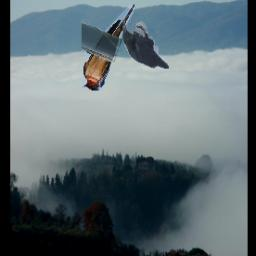Crow: (122, 21, 169, 69)
Swallow: (83, 5, 135, 92)
